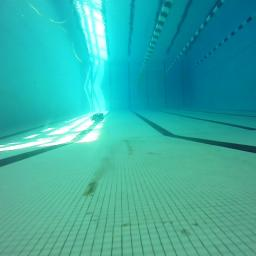Side: (91, 114, 104, 122)
